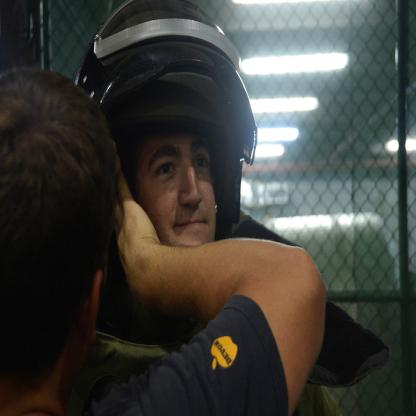Helmet: (92, 11, 250, 257)
